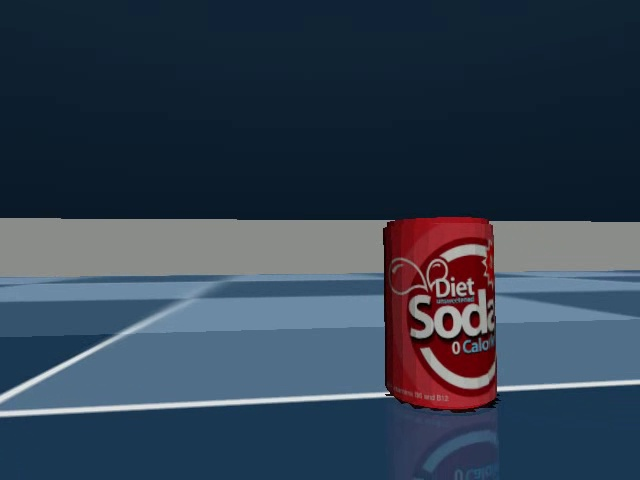can: (372, 206, 513, 416)
